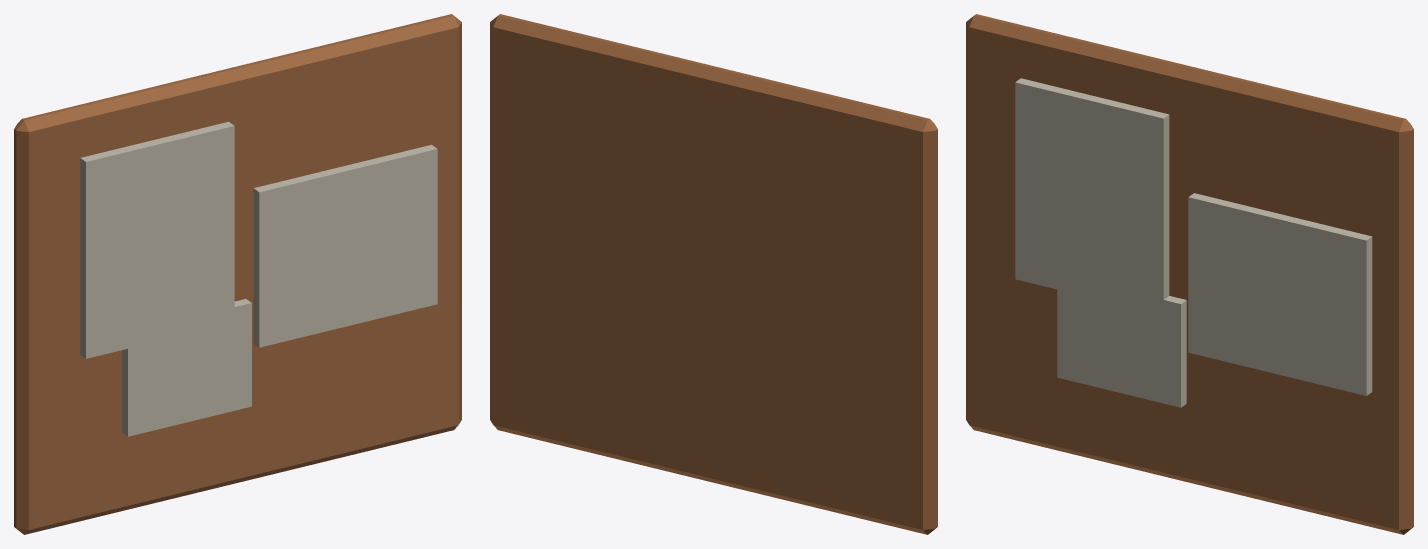
File: notice_board.glb
The picture shows the model from 3 angles, left to right: view 1: azimuth 30°, elevation 25°; view 2: azimuth 150°, elevation 25°; view 3: azimuth 330°, elevation 25°; orthographic projection.
Visible parts, largest first — view 1: body; view 2: body; view 3: body.
Part boxes in pixels (x1,y1,x2,y2): body: (14, 14, 461, 534); body: (490, 14, 937, 534); body: (966, 14, 1413, 534).
Size of the model in its own units: 0.9 by 0.8 by 0.06.
